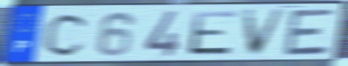4: (142, 8, 182, 59)
6: (95, 10, 136, 58)
C: (42, 11, 92, 58)
E: (281, 7, 338, 58), (187, 9, 240, 57)
V: (241, 7, 290, 58)
